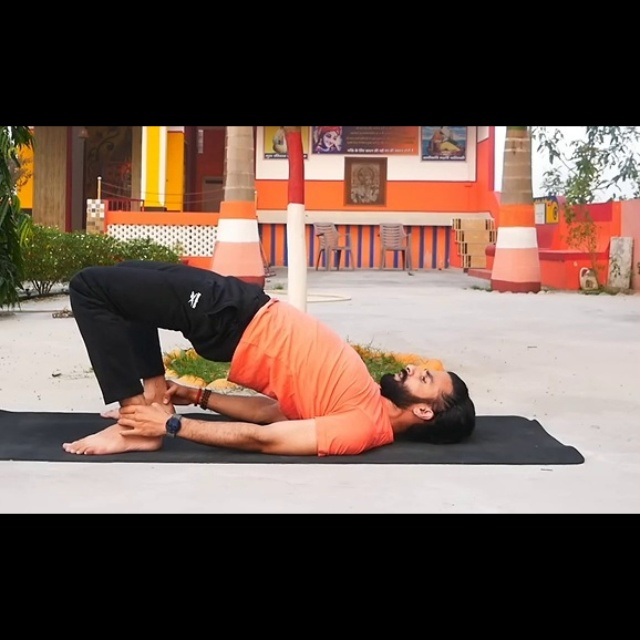Bridge_Pose: (45, 245, 487, 465)
